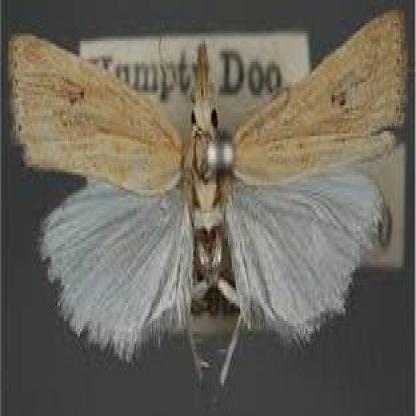stem-borer: (8, 7, 406, 392)
